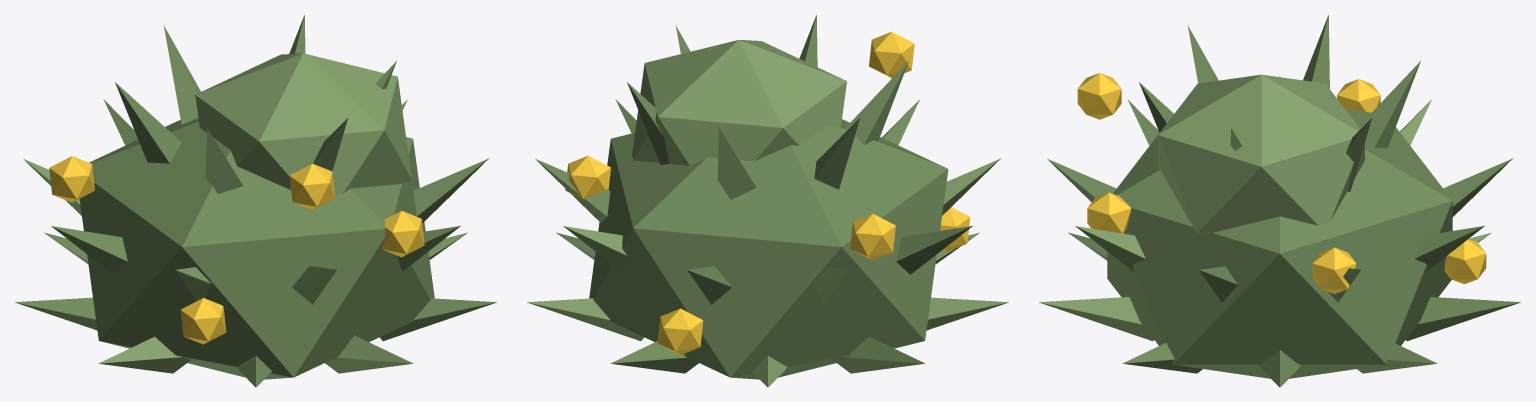
File: arbusto_espinhos.glb
The picture shows the model from 3 angles, left to right: view 1: azimuth 30°, elevation 25°; view 2: azimuth 150°, elevation 25°; view 3: azimuth 270°, elevation 25°; orthographic projection.
Visible parts, largest first — view 1: espinhos_corpo, espinhos_topo, espinho_2_2, espinho_0_5, espinho_0_7, espinho_1_4, fruta_5, fruta_3, fruta_2, espinho_0_8, fruta_4, espinho_1_8 (+9 smaller); view 2: espinhos_corpo, espinhos_topo, espinho_0_4, espinho_1_4, espinho_2_3, fruta_1, fruta_2, fruta_5, espinho_0_1, espinho_0_2, espinho_2_1, fruta_0 (+12 smaller); view 3: espinhos_corpo, espinhos_topo, espinho_0_2, espinho_0_7, espinho_2_1, fruta_5, fruta_0, fruta_4, fruta_1, espinho_1_7, espinho_1_1, espinho_1_2 (+12 smaller).
Part boxes in pixels (box(x1,y1,x2,y2)): espinhos_corpo: box(79, 118, 434, 379); espinhos_topo: box(195, 53, 411, 194); espinho_2_2: box(115, 82, 181, 163); espinho_0_5: box(99, 336, 190, 373); espinho_0_7: box(325, 335, 412, 373); espinho_1_4: box(51, 226, 127, 274); fruta_5: box(289, 163, 335, 210); fruta_3: box(180, 298, 226, 344); fruta_2: box(49, 156, 94, 202); espinho_0_8: box(380, 298, 496, 341); fruta_4: box(381, 210, 424, 257); espinho_1_8: box(413, 158, 488, 222); espinhos_corpo: box(589, 119, 948, 379); espinhos_topo: box(632, 40, 846, 165); espinho_0_4: box(833, 336, 924, 373); espinho_1_4: box(896, 226, 972, 274); espinho_2_3: box(845, 61, 908, 144); fruta_1: box(657, 308, 703, 354); fruta_2: box(850, 213, 895, 260); fruta_5: box(869, 31, 914, 78); espinho_0_1: box(527, 298, 643, 341); espinho_0_2: box(611, 341, 698, 373); espinho_2_1: box(717, 128, 755, 199); fruta_0: box(565, 156, 610, 199); espinhos_corpo: box(1107, 109, 1452, 378); espinhos_topo: box(1158, 74, 1364, 233); espinho_0_2: box(1406, 297, 1520, 341); espinho_0_7: box(1039, 297, 1153, 341); espinho_2_1: box(1358, 61, 1420, 148); fruta_5: box(1077, 73, 1121, 119); fruta_0: box(1312, 247, 1356, 293); fruta_4: box(1087, 192, 1131, 233); fruta_1: box(1444, 239, 1486, 284); espinho_1_7: box(1075, 226, 1145, 271); espinho_1_1: box(1414, 226, 1484, 271); espinho_1_2: box(1443, 158, 1512, 216).
Bounding box in the file's own units: 1.31 × 0.97 × 1.31.
